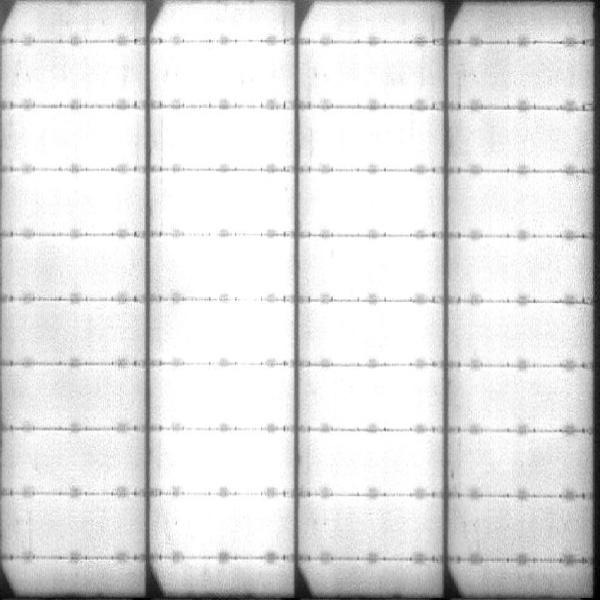hot_spot: (308, 110, 437, 166), (170, 306, 293, 360), (169, 370, 284, 423), (317, 177, 432, 230), (164, 177, 285, 227), (173, 240, 288, 289), (316, 374, 431, 422), (166, 115, 286, 161), (318, 306, 431, 354), (313, 437, 428, 484), (315, 244, 434, 289), (169, 48, 281, 95), (169, 438, 285, 482), (168, 505, 280, 549)
